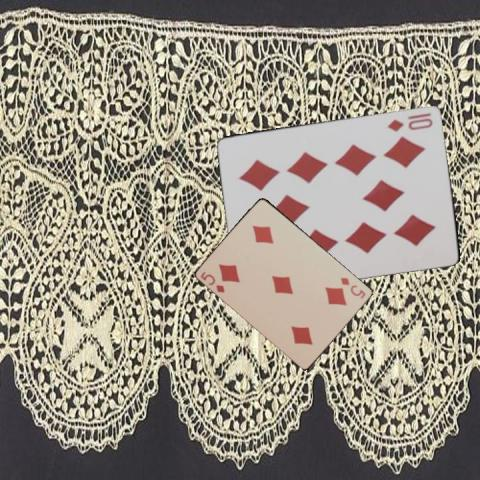10d: (384, 114, 435, 132)
5d: (338, 274, 368, 300), (198, 269, 227, 294)
